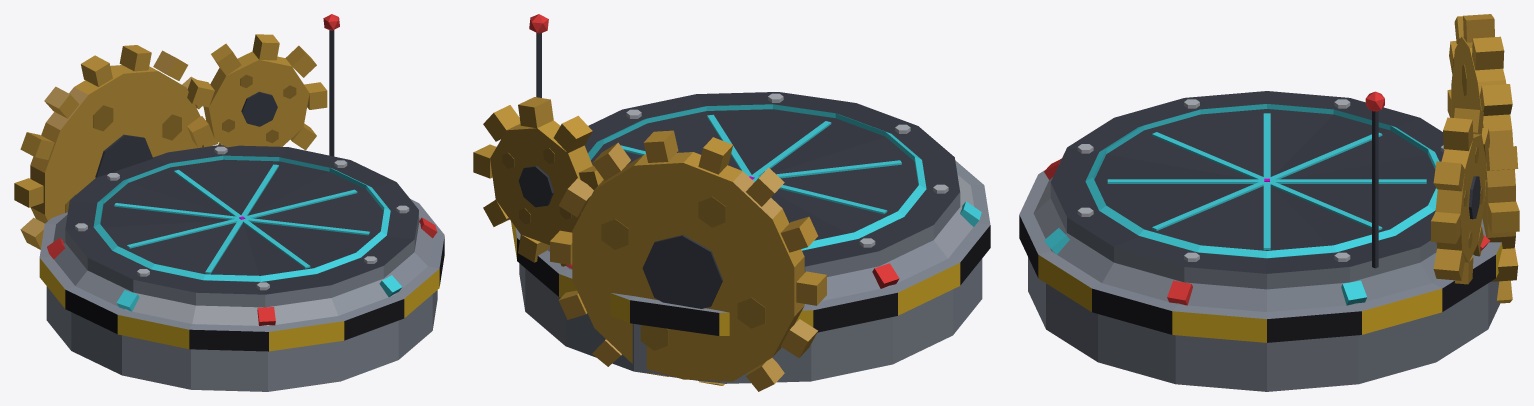
Rendered from Platform_RobotShiba.fbx.
3 views of the same model, side by side, from view 1: azimuth 30°, elevation 25°; view 2: azimuth 150°, elevation 25°; view 3: azimuth 270°, elevation 25° (orthographic). The views are drawn at different scales.
Parts seen in each view (by area): view 1: Body.001; view 2: Body.001; view 3: Body.001.
Part boxes in pixels (x1,y1,x2,y2): Body.001: [14, 14, 444, 391]; Body.001: [473, 14, 990, 391]; Body.001: [1019, 14, 1519, 391].
Size of the model in its own units: 8.7 by 5.4 by 8.78.
